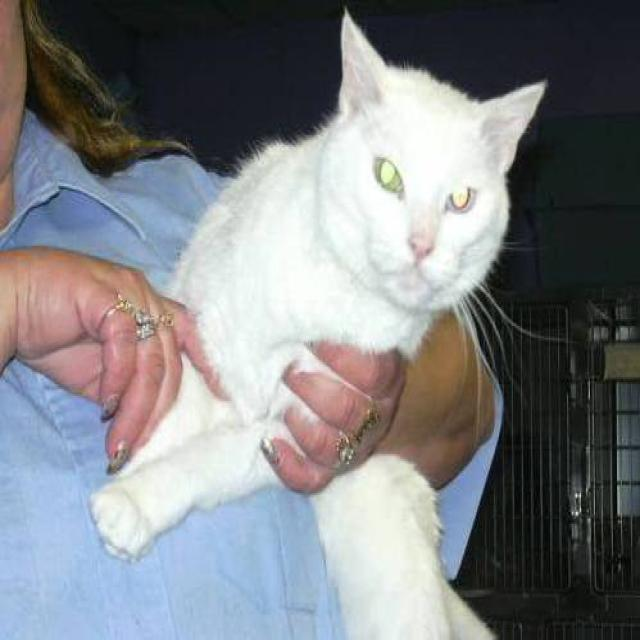cat: (86, 5, 558, 638)
